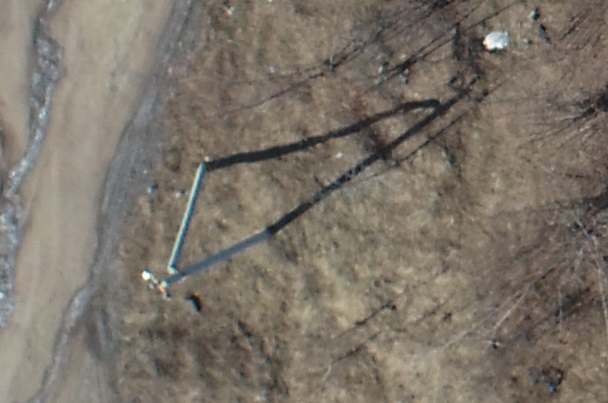opora: (136, 144, 290, 304)
